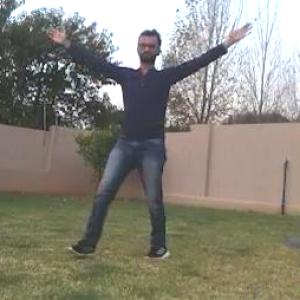takeoff: (82, 39, 275, 261)
